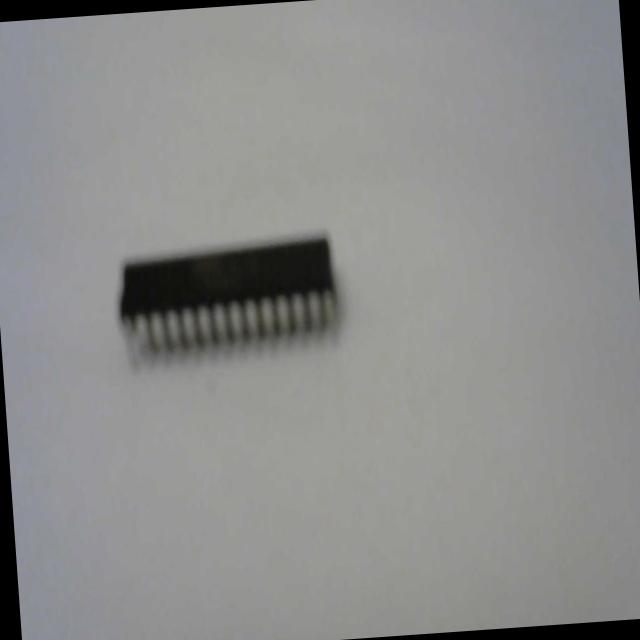atmega: (111, 226, 344, 372)
